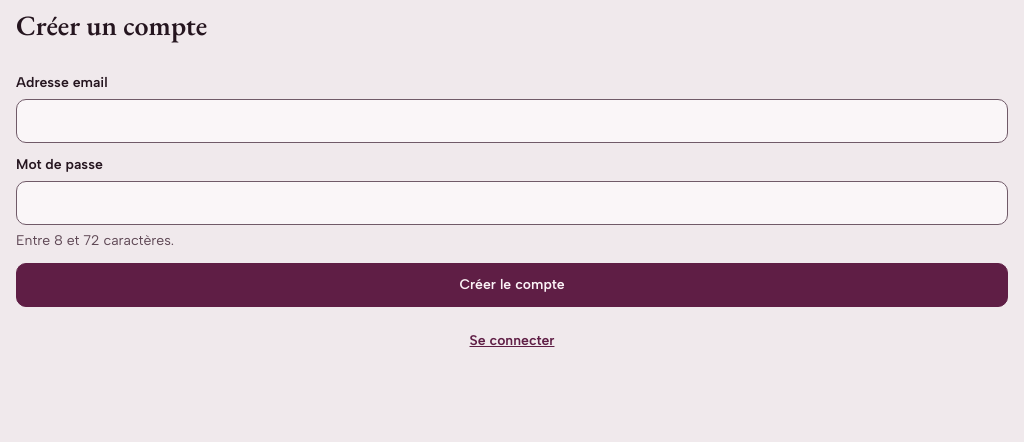
Test: Inscription › refus : message du serveur
Type "a@exemple.fr" into the field labelled "Adresse email".
click(512, 120); type("a@exemple.fr")  # box [16,98,1008,142]
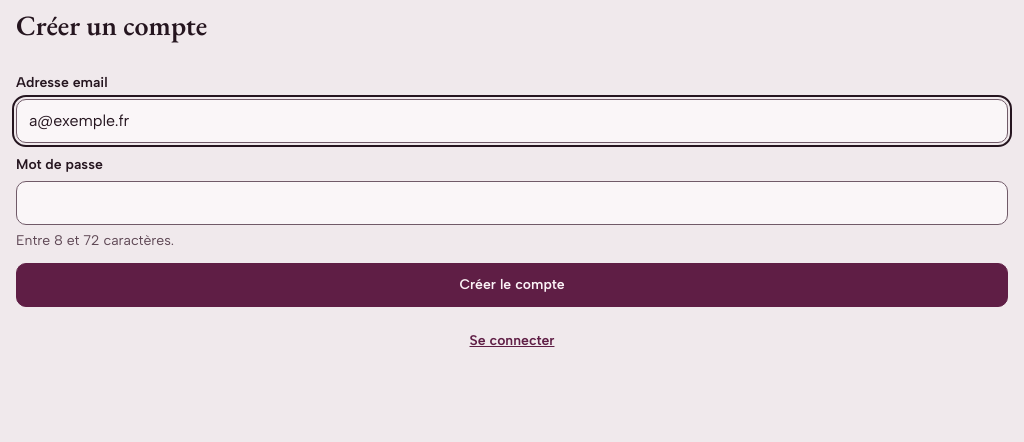
Type "motdepasse-solide" into the password field labelled "Mot de passe".
click(512, 202); type("motdepasse-solide")  # box [16,180,1008,224]
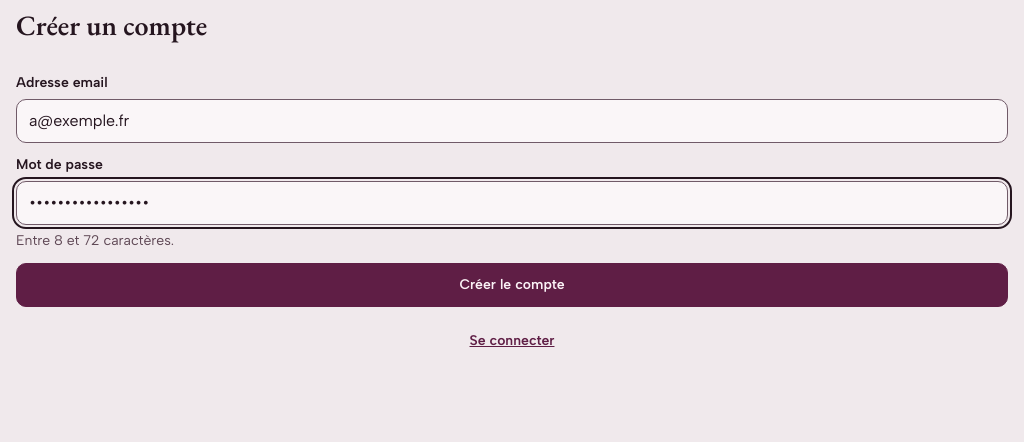
Click the button "Créer le compte".
click(512, 284)  # box [16,262,1008,306]
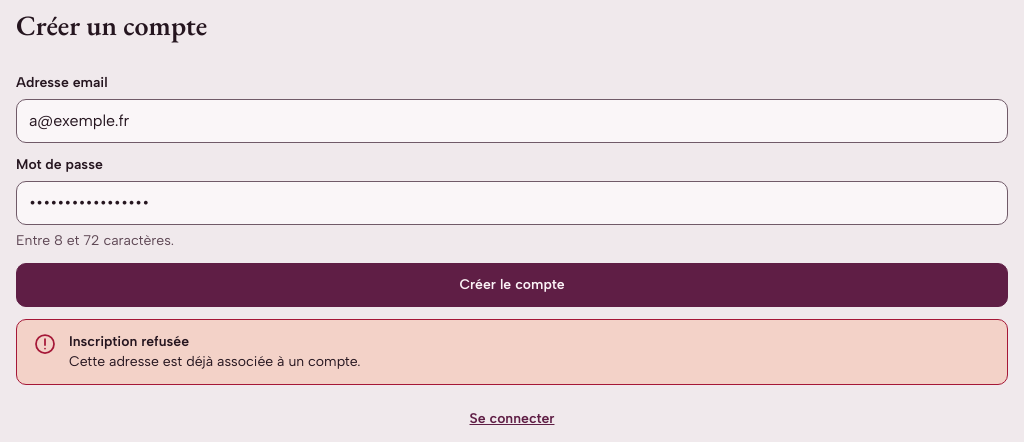
expect the message shows "Inscription refusée": met, box [69,332,189,350]
expect the message shows "Cette adresse est déjà associée à un compte.": met, box [69,352,361,370]
